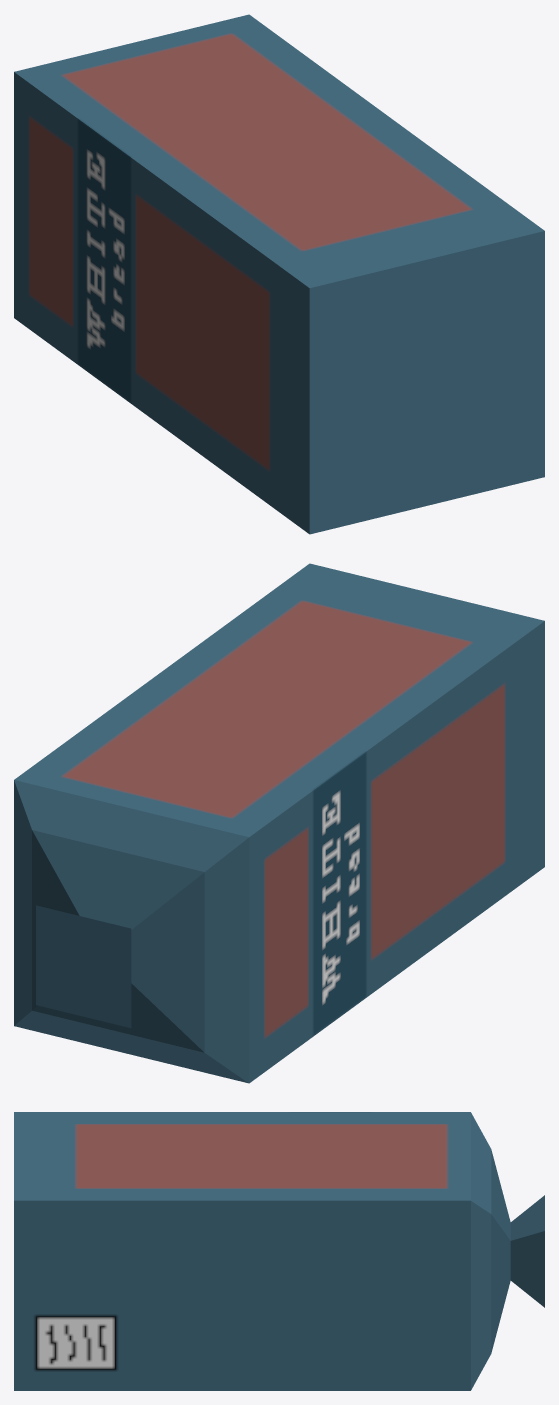
The model's file is White Bread.fbx.
3 renders of one model, top to bottom at view 1: azimuth 30°, elevation 25°; view 2: azimuth 150°, elevation 25°; view 3: azimuth 270°, elevation 25°, orthographic. The views are drawn at different scales.
Visible parts, largest first — view 1: Cube.155; view 2: Cube.155; view 3: Cube.155.
Part boxes in pixels (x1,y1,x2,y2): Cube.155: (14,14,544,534); Cube.155: (14,563,544,1083); Cube.155: (14,1112,544,1390).
Size of the model in its own units: 200 by 200 by 506.
